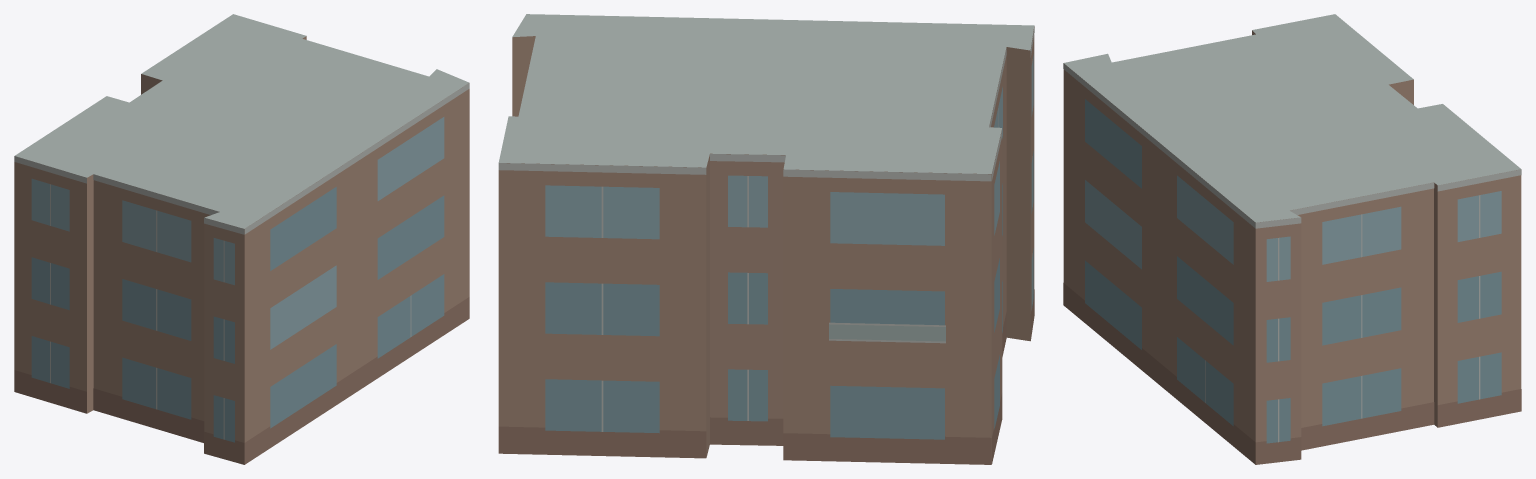
File: survey-upis-32526424.glb
3 renders of one model, left to right at view 1: azimuth 30°, elevation 25°; view 2: azimuth 150°, elevation 25°; view 3: azimuth 270°, elevation 25°, orthographic. The views are drawn at different scales.
Parts seen in each view (by area): view 1: survey-upis-32526424.tmp; view 2: survey-upis-32526424.tmp; view 3: survey-upis-32526424.tmp.
Boxes of the visible parts, x1=… form: survey-upis-32526424.tmp: x1=14, y1=14, x2=469, y2=464; survey-upis-32526424.tmp: x1=498, y1=14, x2=1034, y2=464; survey-upis-32526424.tmp: x1=1063, y1=14, x2=1521, y2=464.
Size of the model in its own units: 17.98 by 9.73 by 16.68.
